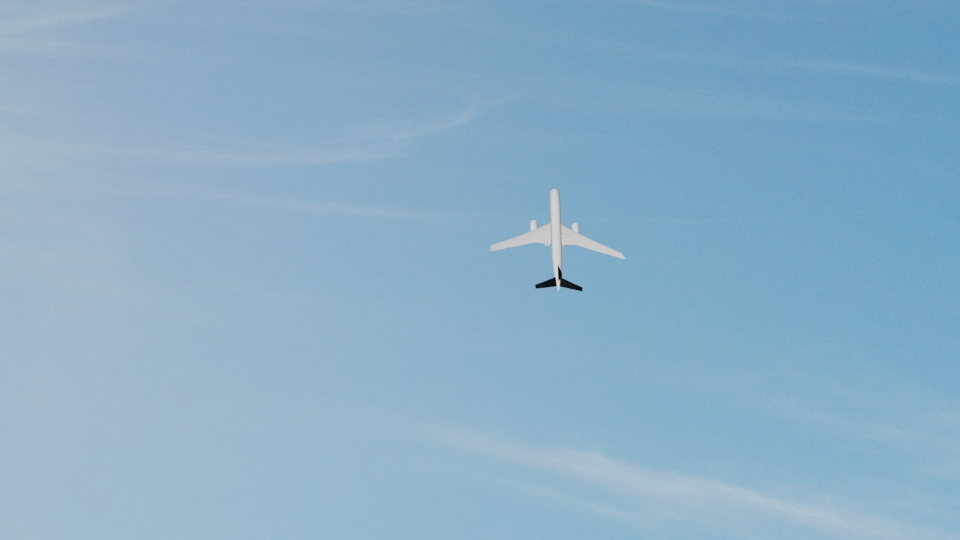plane: (488, 180, 624, 289)
